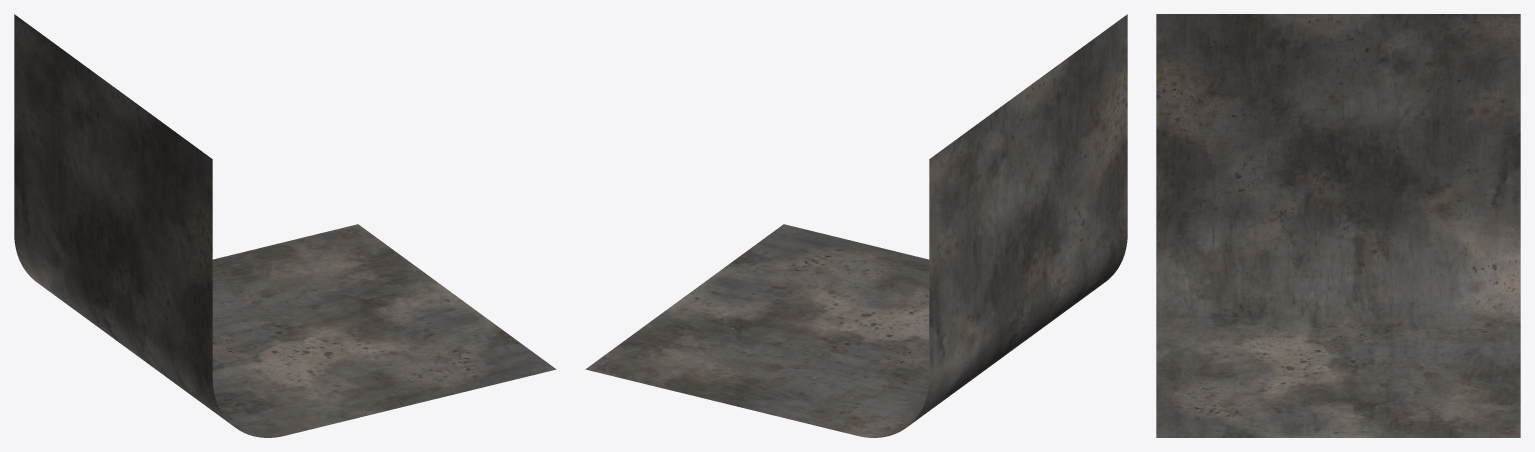
Rendered from plane_bsdf.glb.
3 views of the same model, side by side, from view 1: azimuth 30°, elevation 25°; view 2: azimuth 150°, elevation 25°; view 3: azimuth 270°, elevation 25° (orthographic). The views are drawn at different scales.
Parts seen in each view (by area): view 1: Plane; view 2: Plane; view 3: Plane.
Part boxes in pixels (x1=…): Plane: x1=14, y1=14, x2=556, y2=437; Plane: x1=585, y1=14, x2=1127, y2=437; Plane: x1=1156, y1=14, x2=1520, y2=437.
Bounding box in the file's own units: 7.43 × 6.07 × 7.43.
2 materials, 2 textured.
